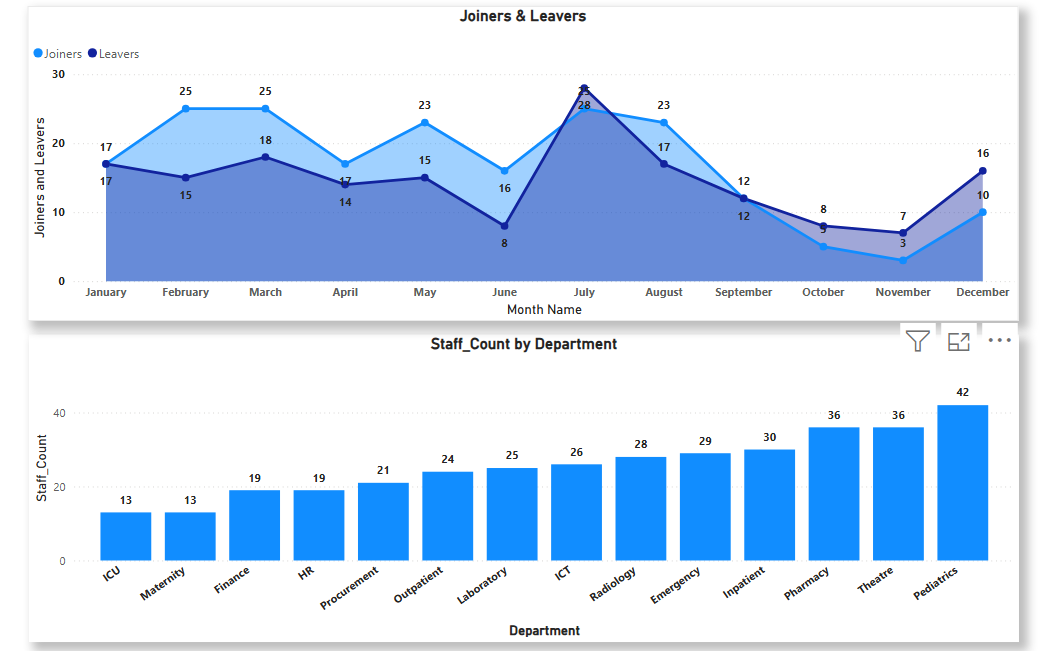

This screenshot's page, from the dashboard's own definition file:
{"tool":"powerbi","page":{"name":"Page 8","canvas":[1280,720],"ordinal":3},"visuals":[{"type":"columnChart","title":"Staff_Count by Department","fields":{"Category":["Hospital_Data.Department"],"Y":["Sum(Hospital_Data.Staff_Count)"]},"box":[103.6,374,1068.7,331.9],"z":0},{"type":"lineChart","title":"Joiners & Leavers","fields":{"Category":["Calendar.Month Name"],"Y":["Sum(Hospital_Data.Joiners)","Sum(Hospital_Data.Leavers)"]},"box":[102,19.4,1070.3,340],"z":1}]}

Visuals, with their boxes on the page's 1280x720 design canvas (x1, y1, x2, y2). These are canvas units, not pixel positions in the 1054x651 screenshot, which may show the page scaled, cropped or inside an application window:
"Staff_Count by Department" columnChart: {"x1": 104, "y1": 374, "x2": 1172, "y2": 706}
"Joiners & Leavers" lineChart: {"x1": 102, "y1": 19, "x2": 1172, "y2": 359}
